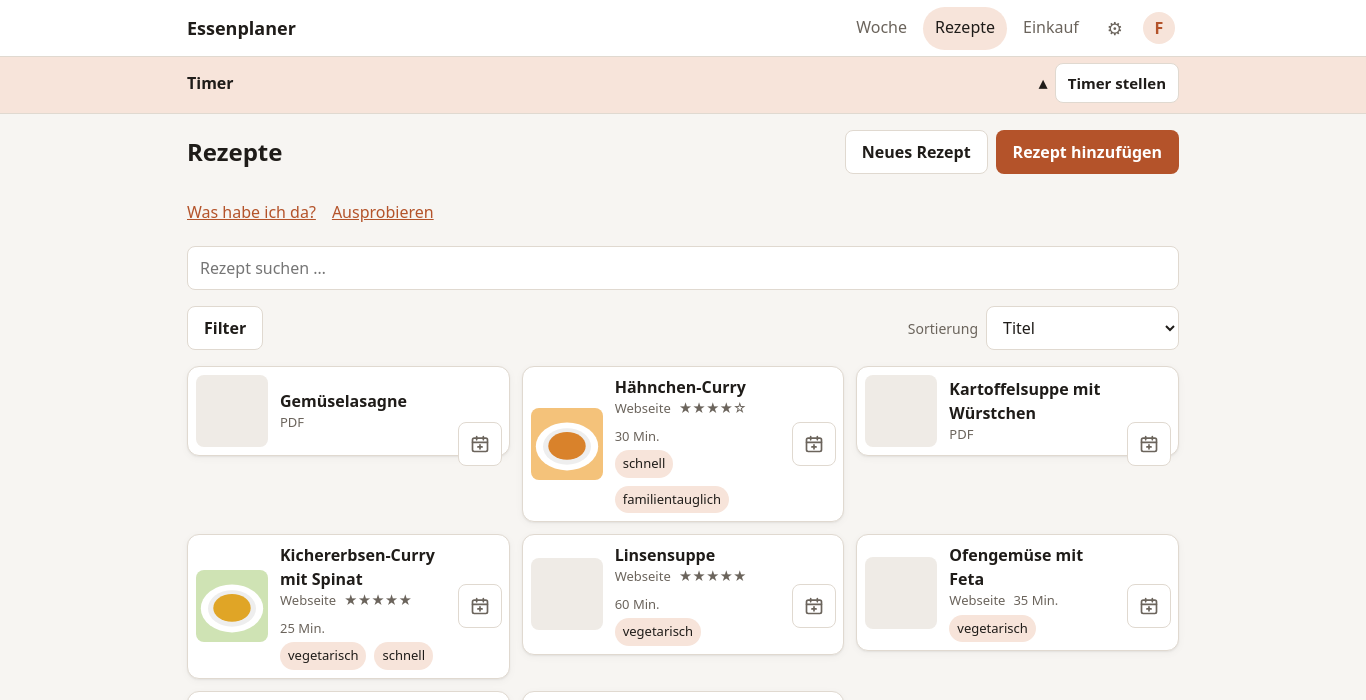
Test: Rezeptliste › Suche › zeigt „Keine Rezepte gefunden“, wenn nichts passt
Type "Sushi" into the search field at (683, 268), box [187,246,1179,290]
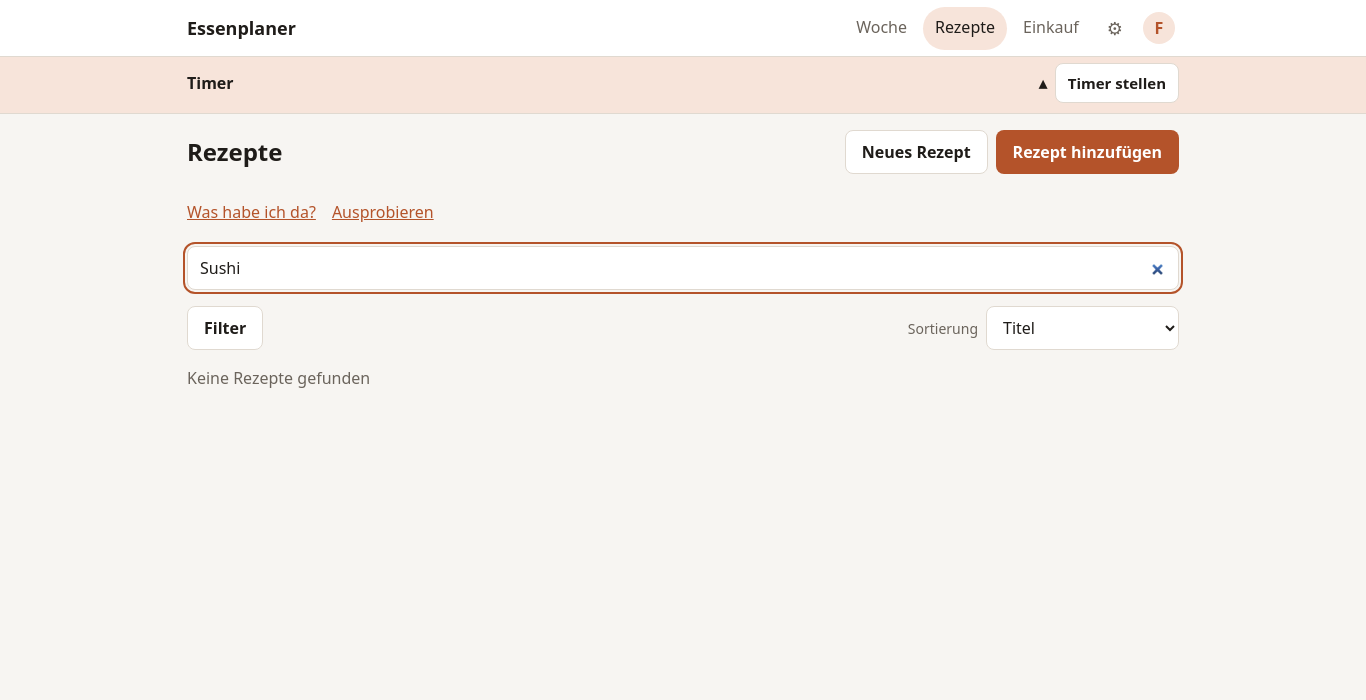
Check: the text "Keine Rezepte gefunden" is shown, box [187,367,370,389]
